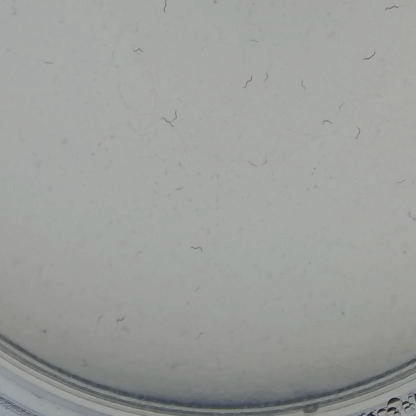worm: (240, 152, 271, 174), (158, 108, 182, 133), (359, 43, 382, 67), (115, 47, 150, 61), (386, 176, 414, 191), (240, 34, 262, 53), (345, 125, 365, 145), (237, 74, 256, 95), (256, 70, 275, 90), (155, 0, 177, 17), (110, 314, 129, 333), (184, 244, 207, 258), (296, 76, 317, 91), (37, 58, 56, 73), (401, 211, 416, 228), (315, 118, 334, 131), (379, 2, 403, 11)
